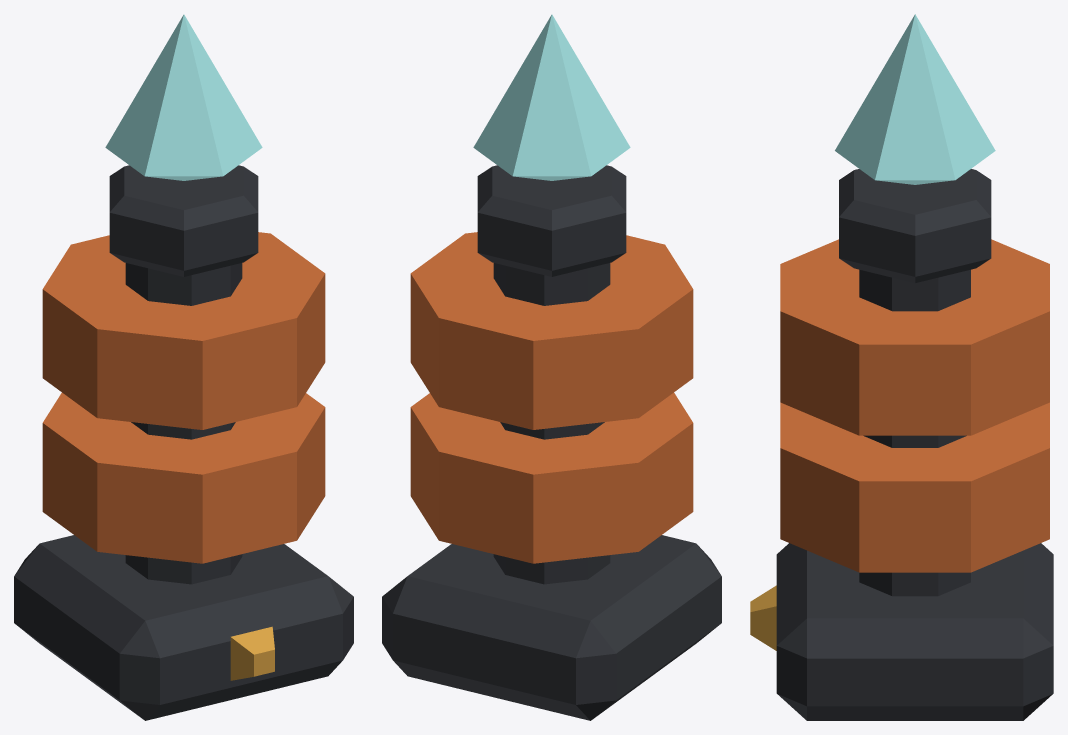
File: TeslaBarrel.obj
The picture shows the model from 3 angles, left to right: view 1: azimuth 30°, elevation 25°; view 2: azimuth 150°, elevation 25°; view 3: azimuth 270°, elevation 25°; orthographic projection. The views are drawn at different scales.
Visible parts, largest first — view 1: TeslaBarrel; view 2: TeslaBarrel; view 3: TeslaBarrel.
Boxes of the visible parts, x1,y1,x2,y2 form: TeslaBarrel: (14, 14, 353, 720); TeslaBarrel: (382, 14, 721, 720); TeslaBarrel: (750, 14, 1053, 720).
Bounding box in the file's own units: 0.132 × 0.348 × 0.1446.
